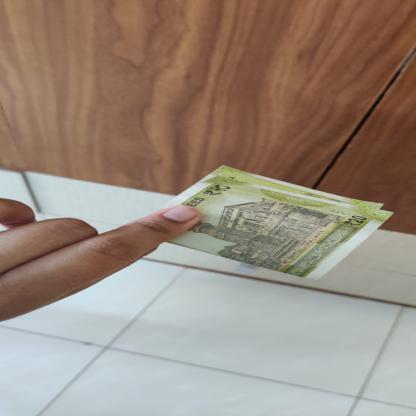New20Back: (156, 164, 395, 281)
